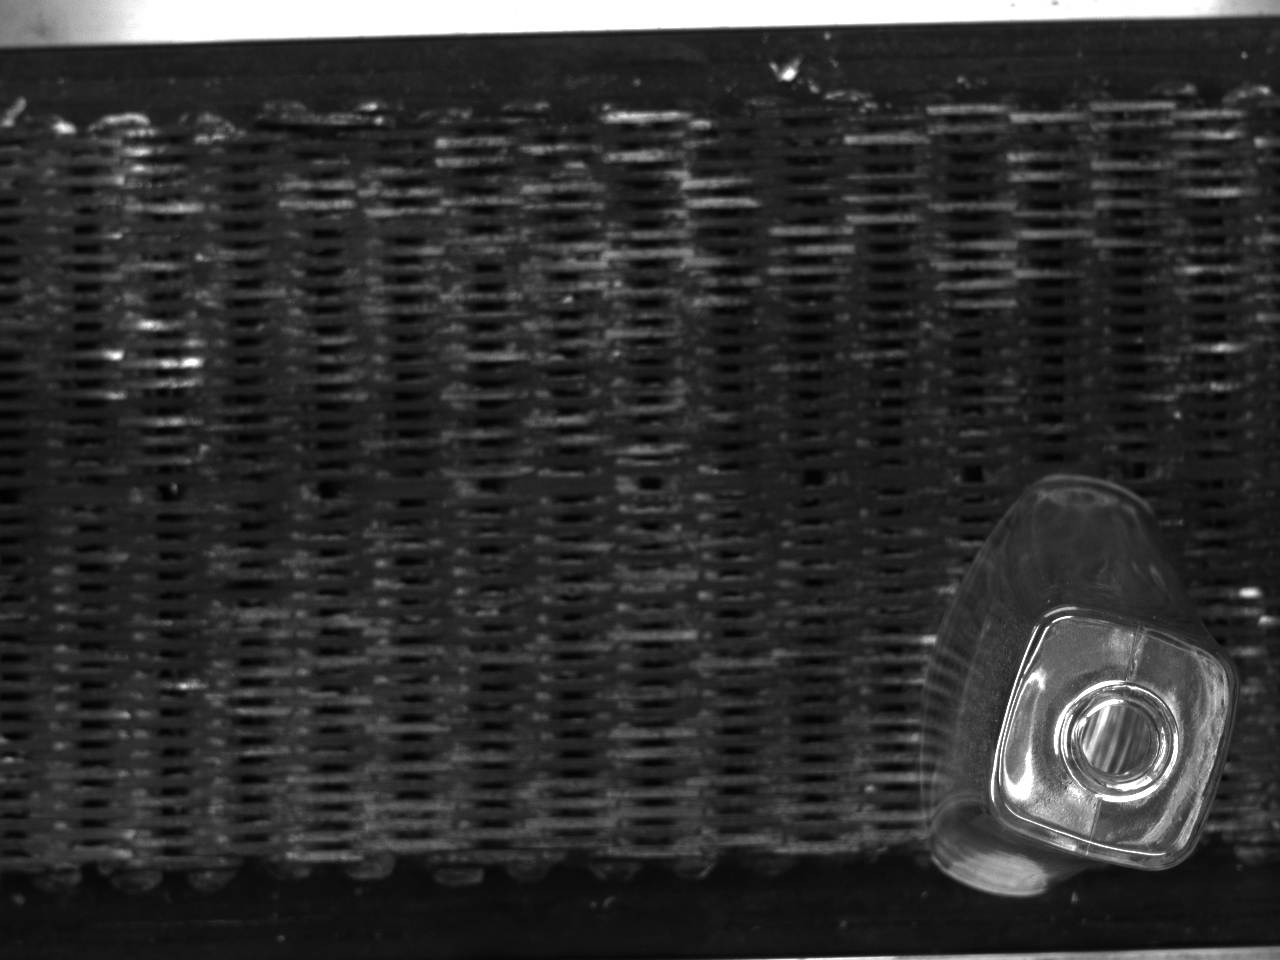bottleneck: (1058, 679, 1181, 801)
